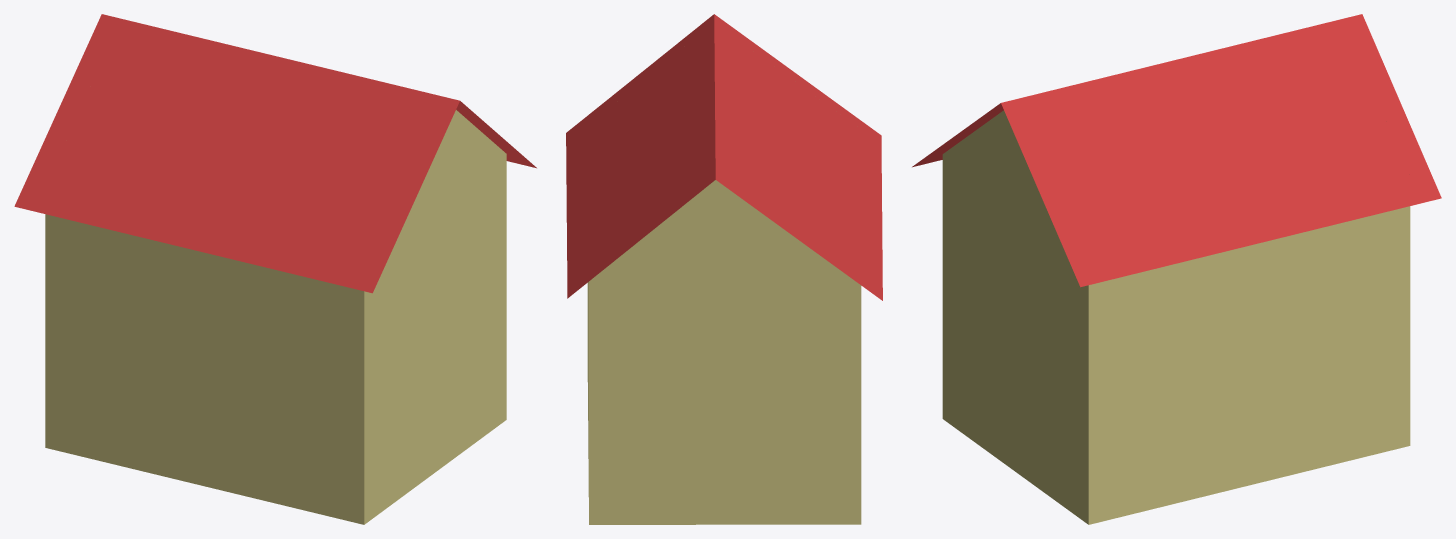
3 renders of one model, left to right at view 1: azimuth 30°, elevation 25°; view 2: azimuth 150°, elevation 25°; view 3: azimuth 270°, elevation 25°, orthographic. The views are drawn at different scales.
Bounding box in the file's own units: 16.26 × 17.22 × 13.52.
